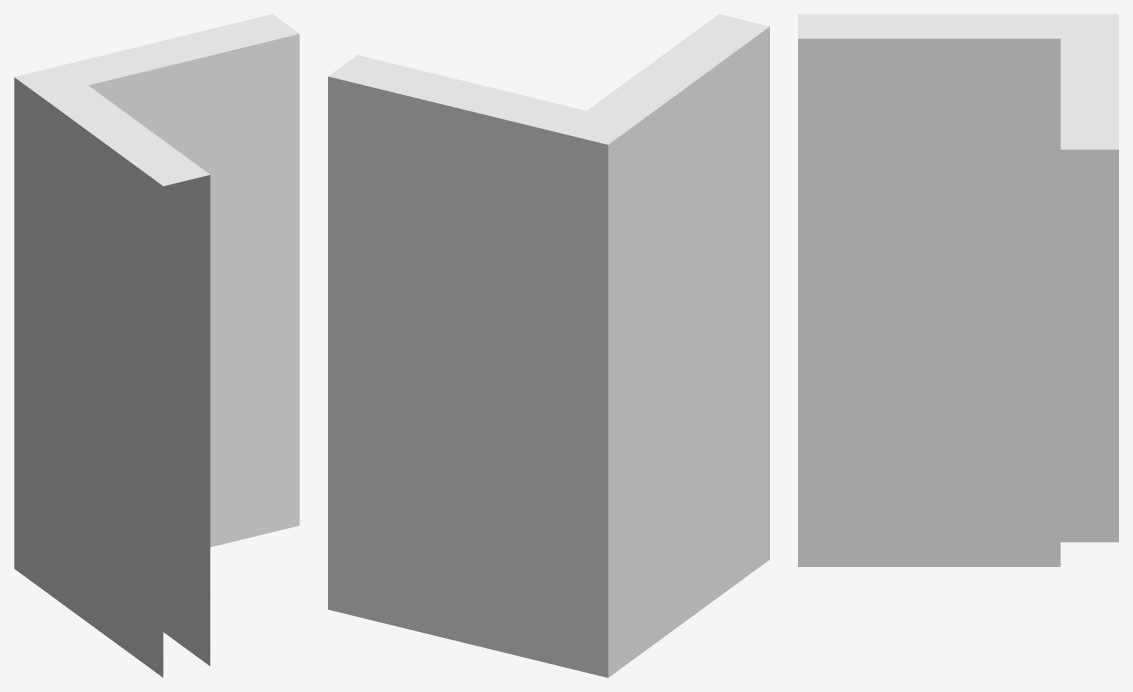
The model's file is E_Wall_L_Shape_Elevator.fbx.
3 renders of one model, left to right at view 1: azimuth 30°, elevation 25°; view 2: azimuth 150°, elevation 25°; view 3: azimuth 270°, elevation 25°, orthographic. The views are drawn at different scales.
Visible parts, largest first — view 1: E_Wall_L_Shape_Elevator; view 2: E_Wall_L_Shape_Elevator; view 3: E_Wall_L_Shape_Elevator.
Boxes of the visible parts, x1=… form: E_Wall_L_Shape_Elevator: x1=14, y1=14, x2=299, y2=677; E_Wall_L_Shape_Elevator: x1=328, y1=14, x2=769, y2=677; E_Wall_L_Shape_Elevator: x1=798, y1=14, x2=1118, y2=566.
Bounding box in the file's own units: 110 × 200 × 110.
1 material, 1 textured.
